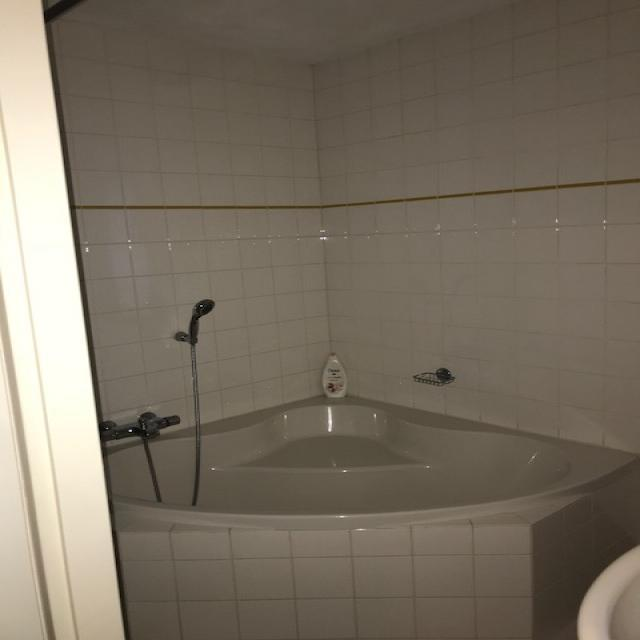bath: (96, 388, 640, 580)
wastafel: (576, 542, 640, 640)
